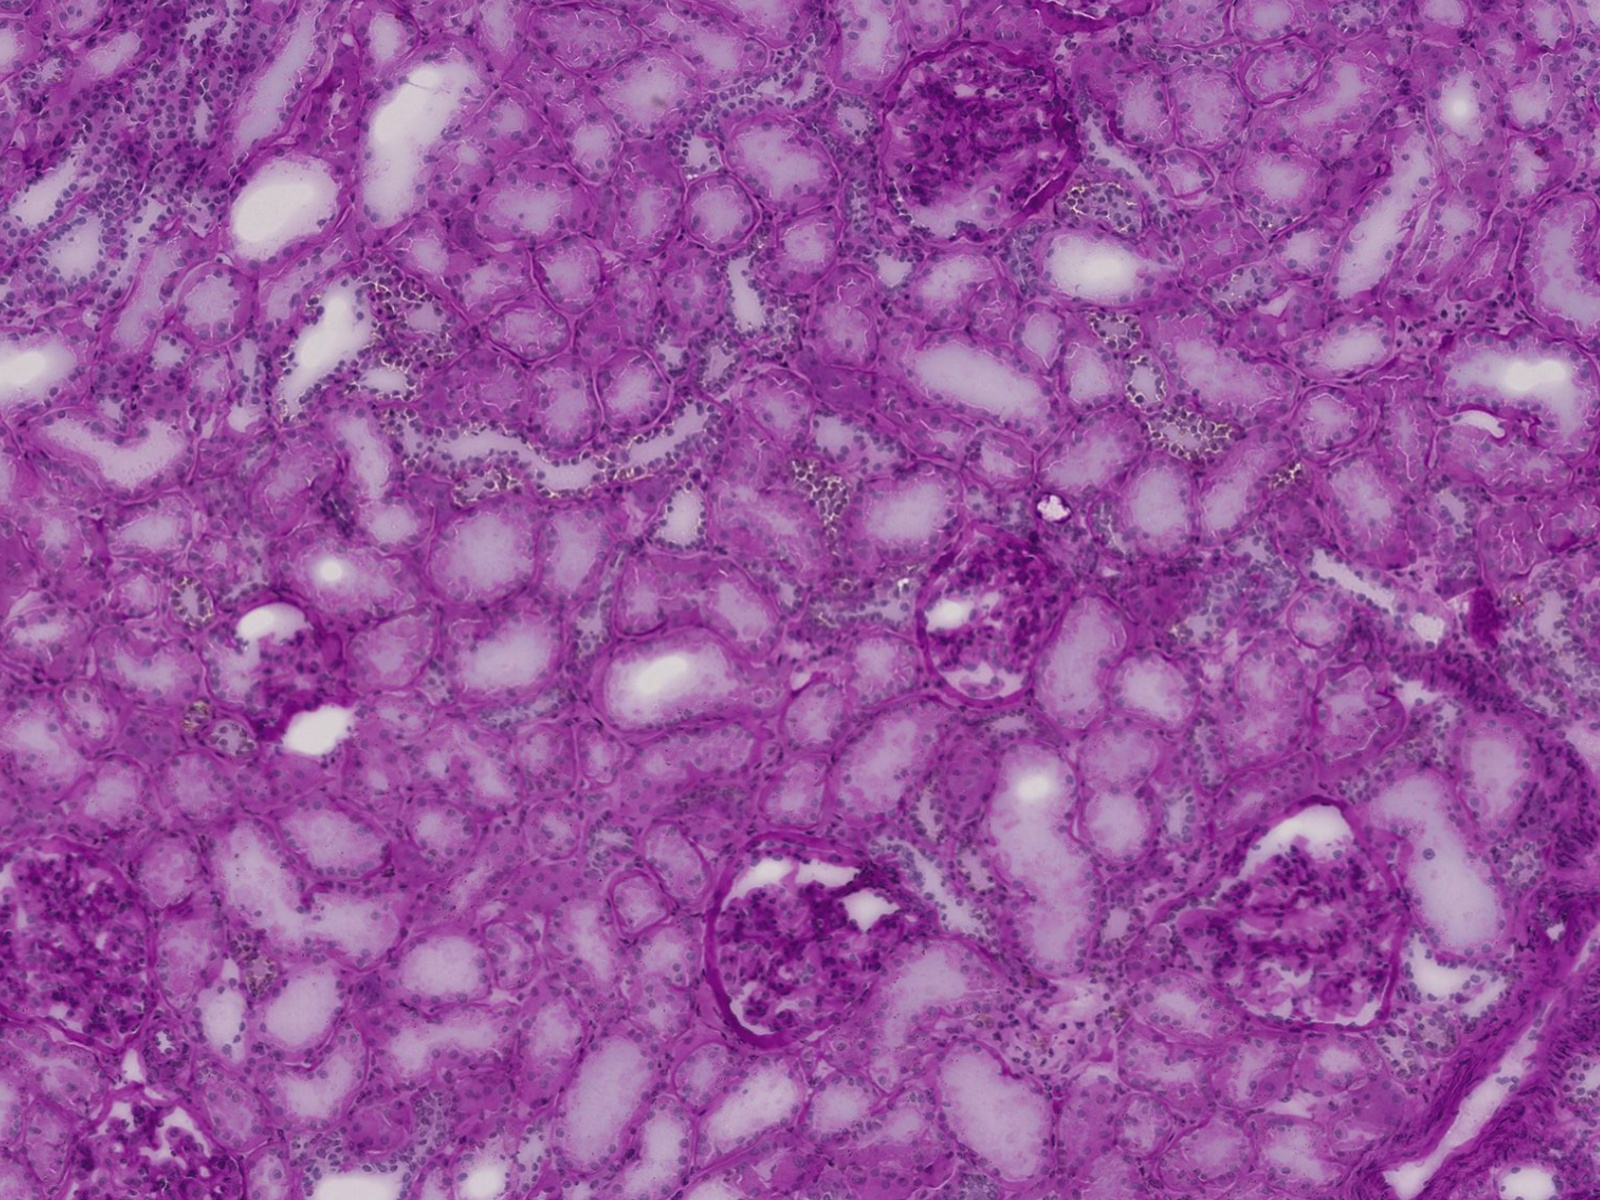Glomeruli: (1214, 795, 1407, 1032), (877, 42, 1089, 241), (716, 850, 927, 1046), (1, 832, 163, 1049), (915, 517, 1073, 708)
